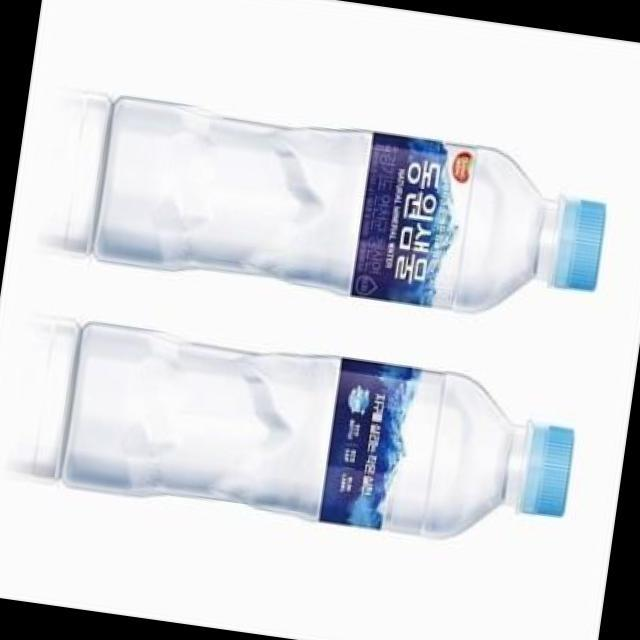good: (22, 56, 633, 356), (0, 286, 599, 582)
